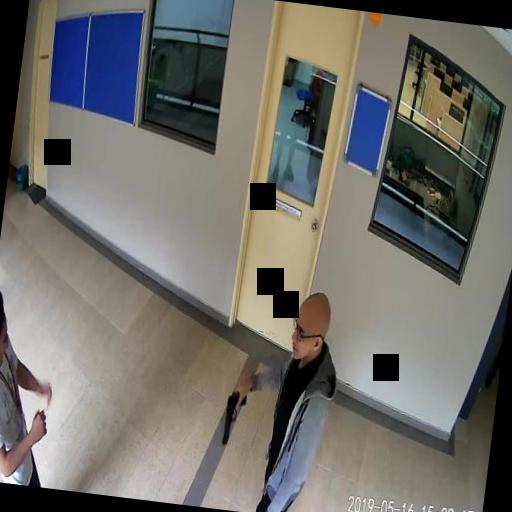Handgun: (220, 386, 247, 446)
